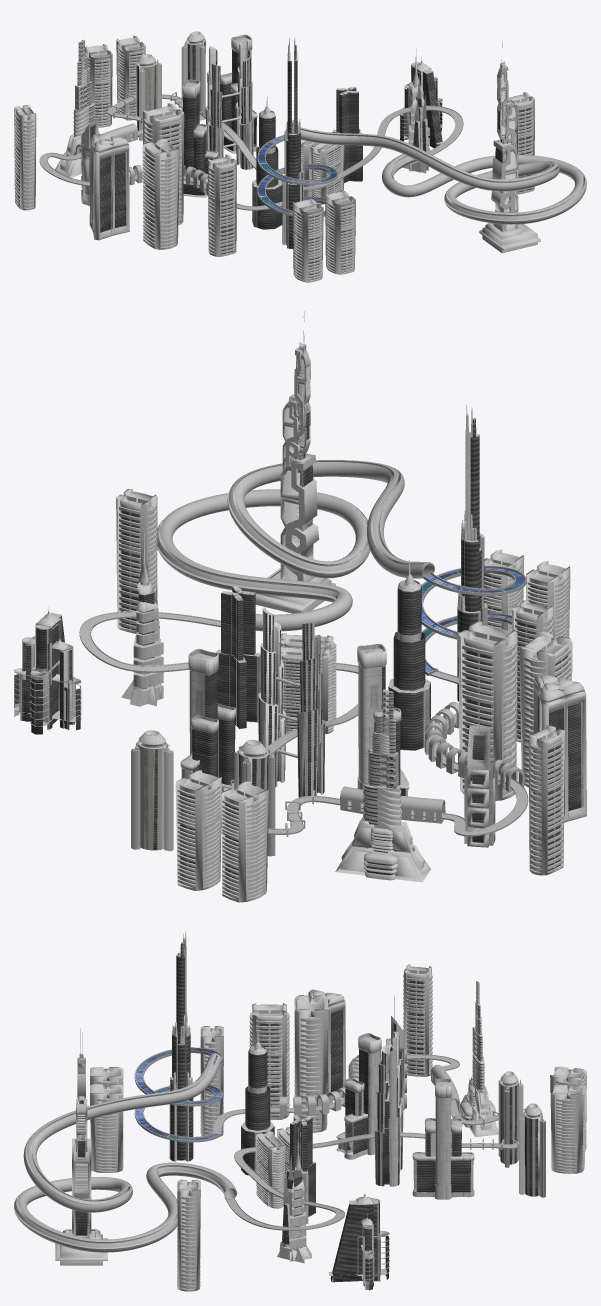
File: pista02.fbx
3 views of the same model, one above another, from view 1: azimuth 30°, elevation 25°; view 2: azimuth 150°, elevation 25°; view 3: azimuth 270°, elevation 25° (orthographic). The views are drawn at different scales.
Visible parts, largest first — view 1: tunelTuboPista1, edificio017, edificio27, edificio33, edificio015, edificio35, edificio014, edificio29, edificio28, edificio32, edificio41, edificio37 (+21 smaller); view 2: tunelTuboPista1, edificio26, edificio015, edificio018, edificio017, edificio30, edificio39, edificio37, edificio32, edificio010, edificio38, edificio31 (+21 smaller); view 3: tunelTuboPista1, edificio010, edificio018, edificio30, edificio017, edificio015, edificio41, edificio014, edificio38, edificio33, edificio32, edificio016 (+19 smaller).
Boxes of the visible parts, box(x1,y1,x2,y2) form: tunelTuboPista1: box(301, 127, 586, 224); edificio017: box(479, 41, 540, 253); edificio27: box(89, 134, 129, 240); edificio33: box(142, 138, 179, 249); edificio015: box(205, 39, 253, 169); edificio35: box(207, 154, 236, 256); edificio014: box(282, 37, 303, 249); edificio29: box(325, 190, 355, 274); edificio28: box(292, 198, 323, 282); edificio32: box(14, 105, 36, 210); edificio41: box(182, 79, 218, 197); edificio37: box(252, 96, 282, 229); tunelTuboPista1: box(157, 460, 434, 631); edificio26: box(335, 688, 430, 882); edificio015: box(258, 607, 325, 797); edificio018: box(458, 621, 517, 800); edificio017: box(255, 311, 335, 613); edificio30: box(14, 607, 81, 734); edificio39: box(221, 781, 268, 902); edificio37: box(388, 560, 430, 750); edificio32: box(528, 725, 564, 875); edificio010: box(180, 649, 235, 790); edificio38: box(175, 770, 221, 890); edificio31: box(216, 586, 260, 729); tunelTuboPista1: box(14, 1053, 237, 1252); edificio010: box(412, 1078, 474, 1199); edificio018: box(294, 995, 327, 1132); edificio30: box(328, 1193, 389, 1290); edificio017: box(55, 1028, 107, 1265); edificio015: box(374, 1031, 403, 1186); edificio41: box(336, 1033, 381, 1159); edificio014: box(169, 931, 193, 1161); edificio38: box(550, 1084, 586, 1173); edificio33: box(249, 1003, 289, 1120); edificio32: box(403, 964, 432, 1076); edificio016: box(177, 1179, 200, 1291).
Bounding box in the file's own units: 108029 × 52630 × 116848.
